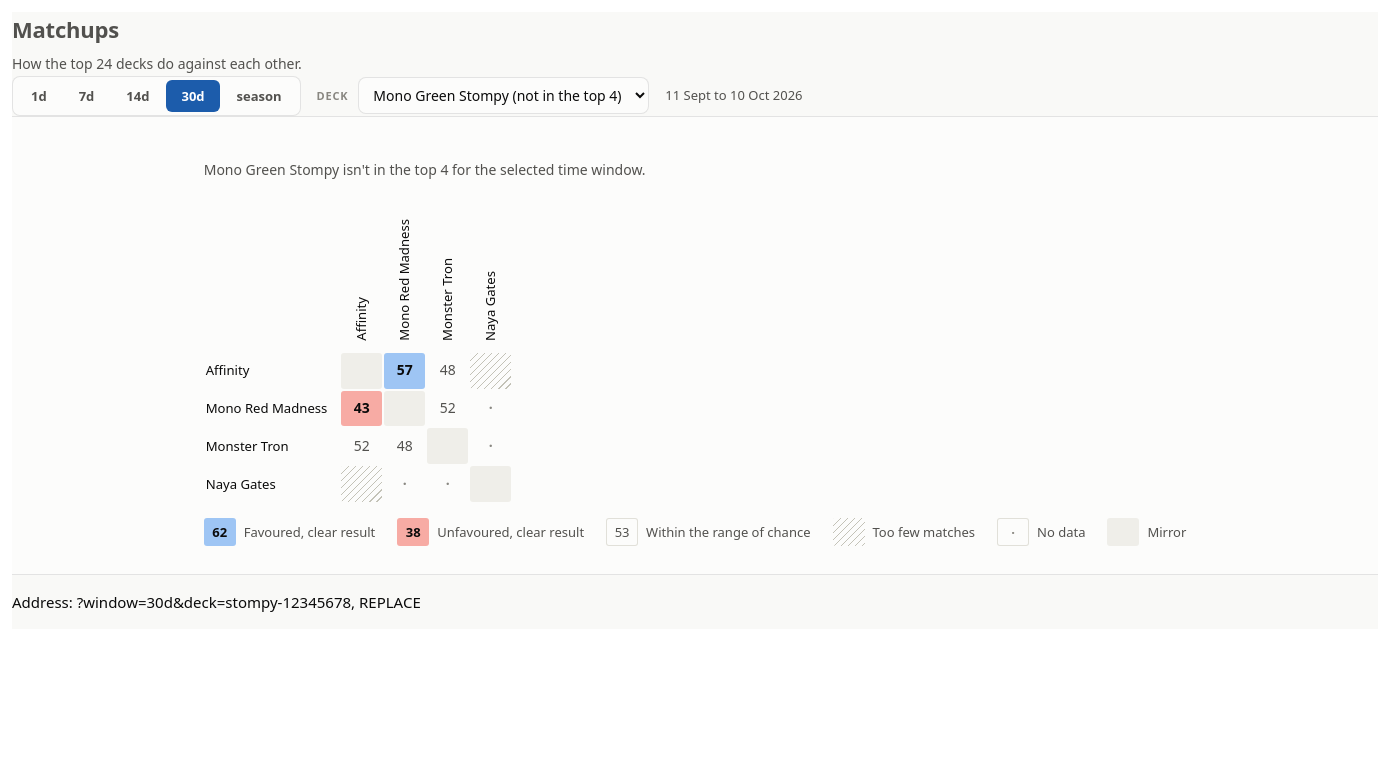
it: MatchupsPage › does not reveal a deck that a window change brings into the top decks
Click the button "7d".
click(87, 96)  # box [64,80,109,112]
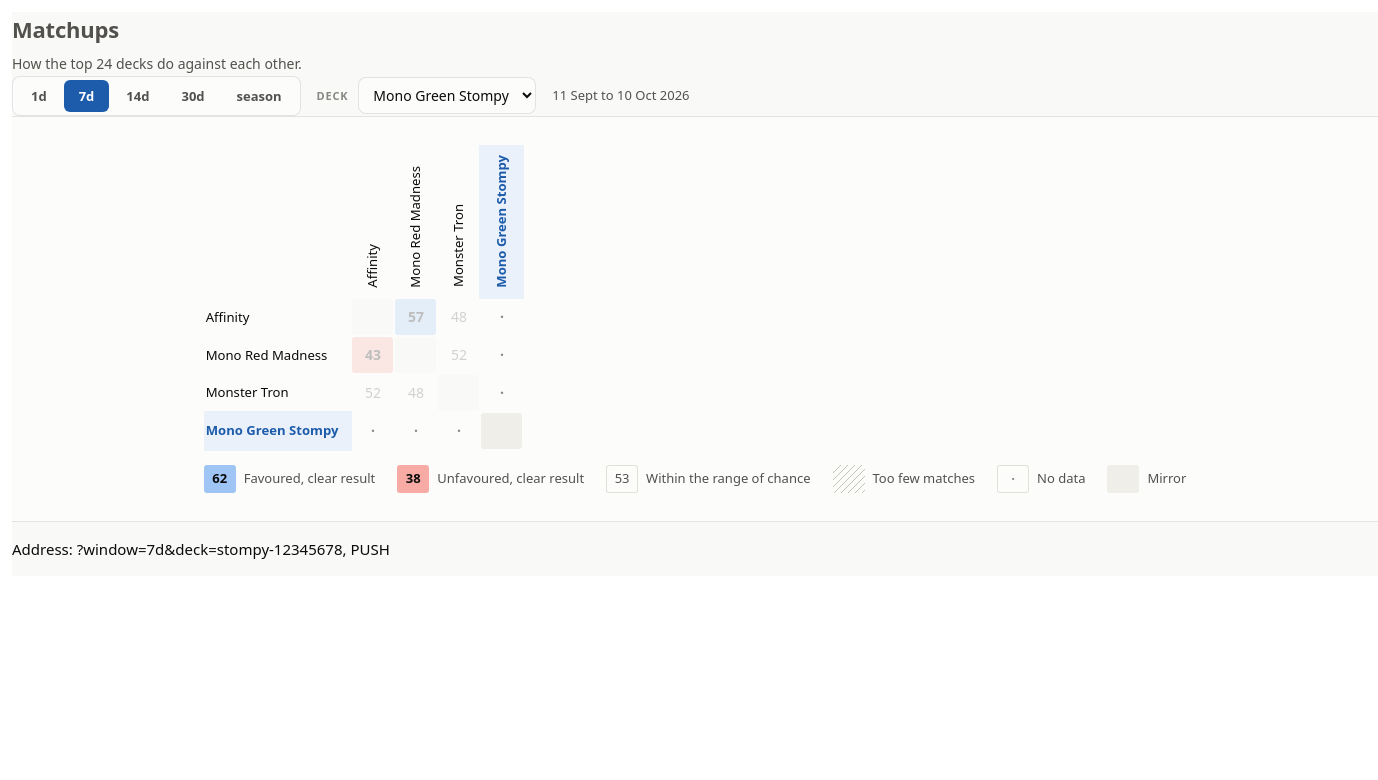
Expected: the table named "7d window" is shown, [204,145,524,451]
